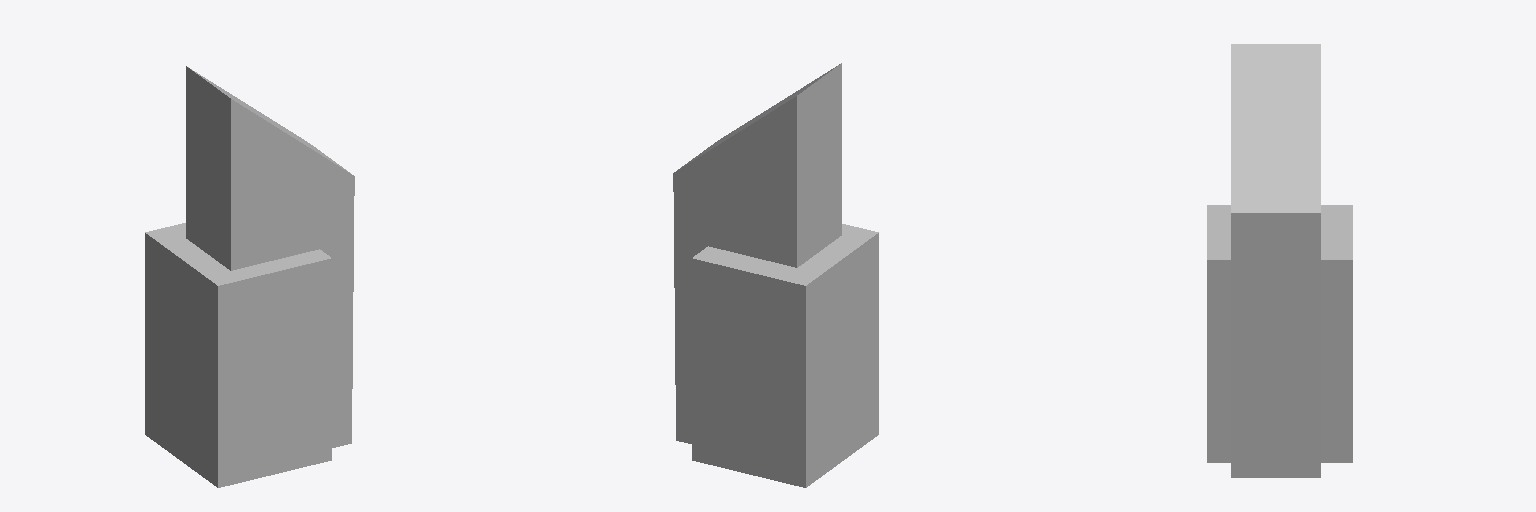
Rendered from skyscraper_slant.obj.
The picture shows the model from 3 angles: view 1: azimuth 30°, elevation 25°; view 2: azimuth 150°, elevation 25°; view 3: azimuth 270°, elevation 25°; orthographic projection.
Size of the model in its own units: 24.76 by 59.53 by 21.07.